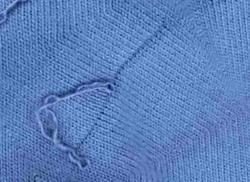snag: (80, 75, 126, 104)
